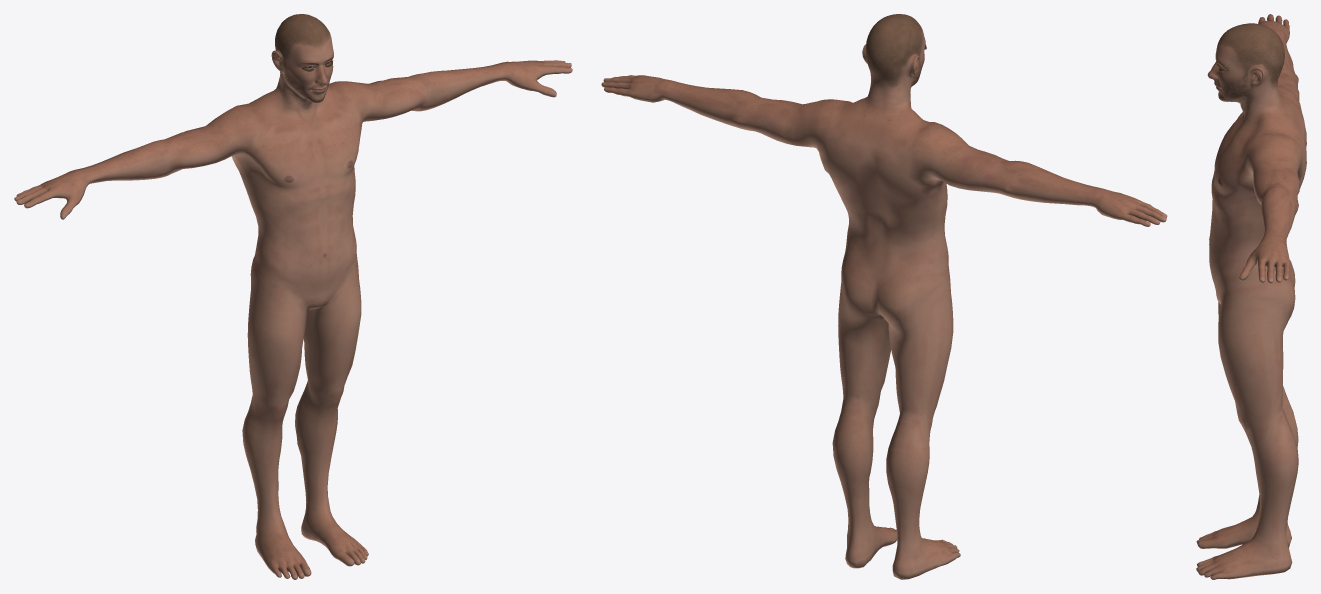
The picture shows the model from 3 angles, left to right: view 1: azimuth 30°, elevation 25°; view 2: azimuth 150°, elevation 25°; view 3: azimuth 270°, elevation 25°; orthographic projection.
Parts seen in each view (by area): view 1: Body; view 2: Body; view 3: Body.
Part boxes in pixels (box(x1,y1,x2,y2)): Body: box(14, 14, 572, 579); Body: box(601, 14, 1167, 579); Body: box(1196, 14, 1306, 579).
Size of the model in its own units: 194 by 179 by 33.71.
Materials: 1 (1 with a texture image).
